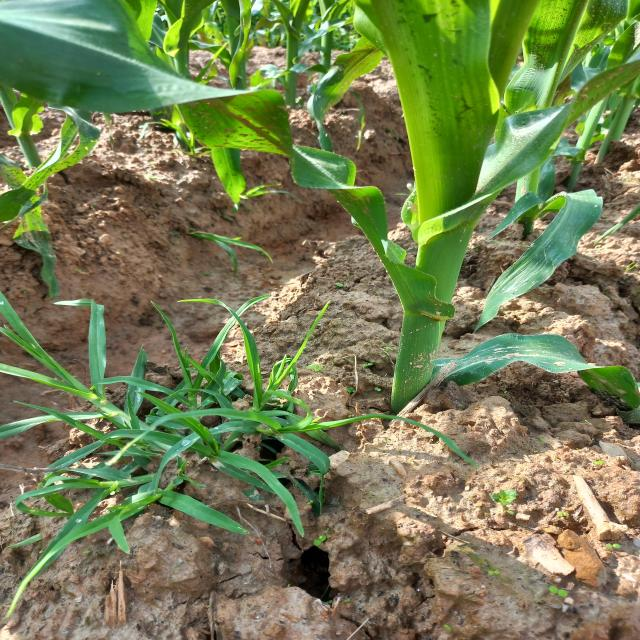maize: (0, 0, 631, 291), (379, 289, 640, 438)
weed: (9, 293, 339, 581)
